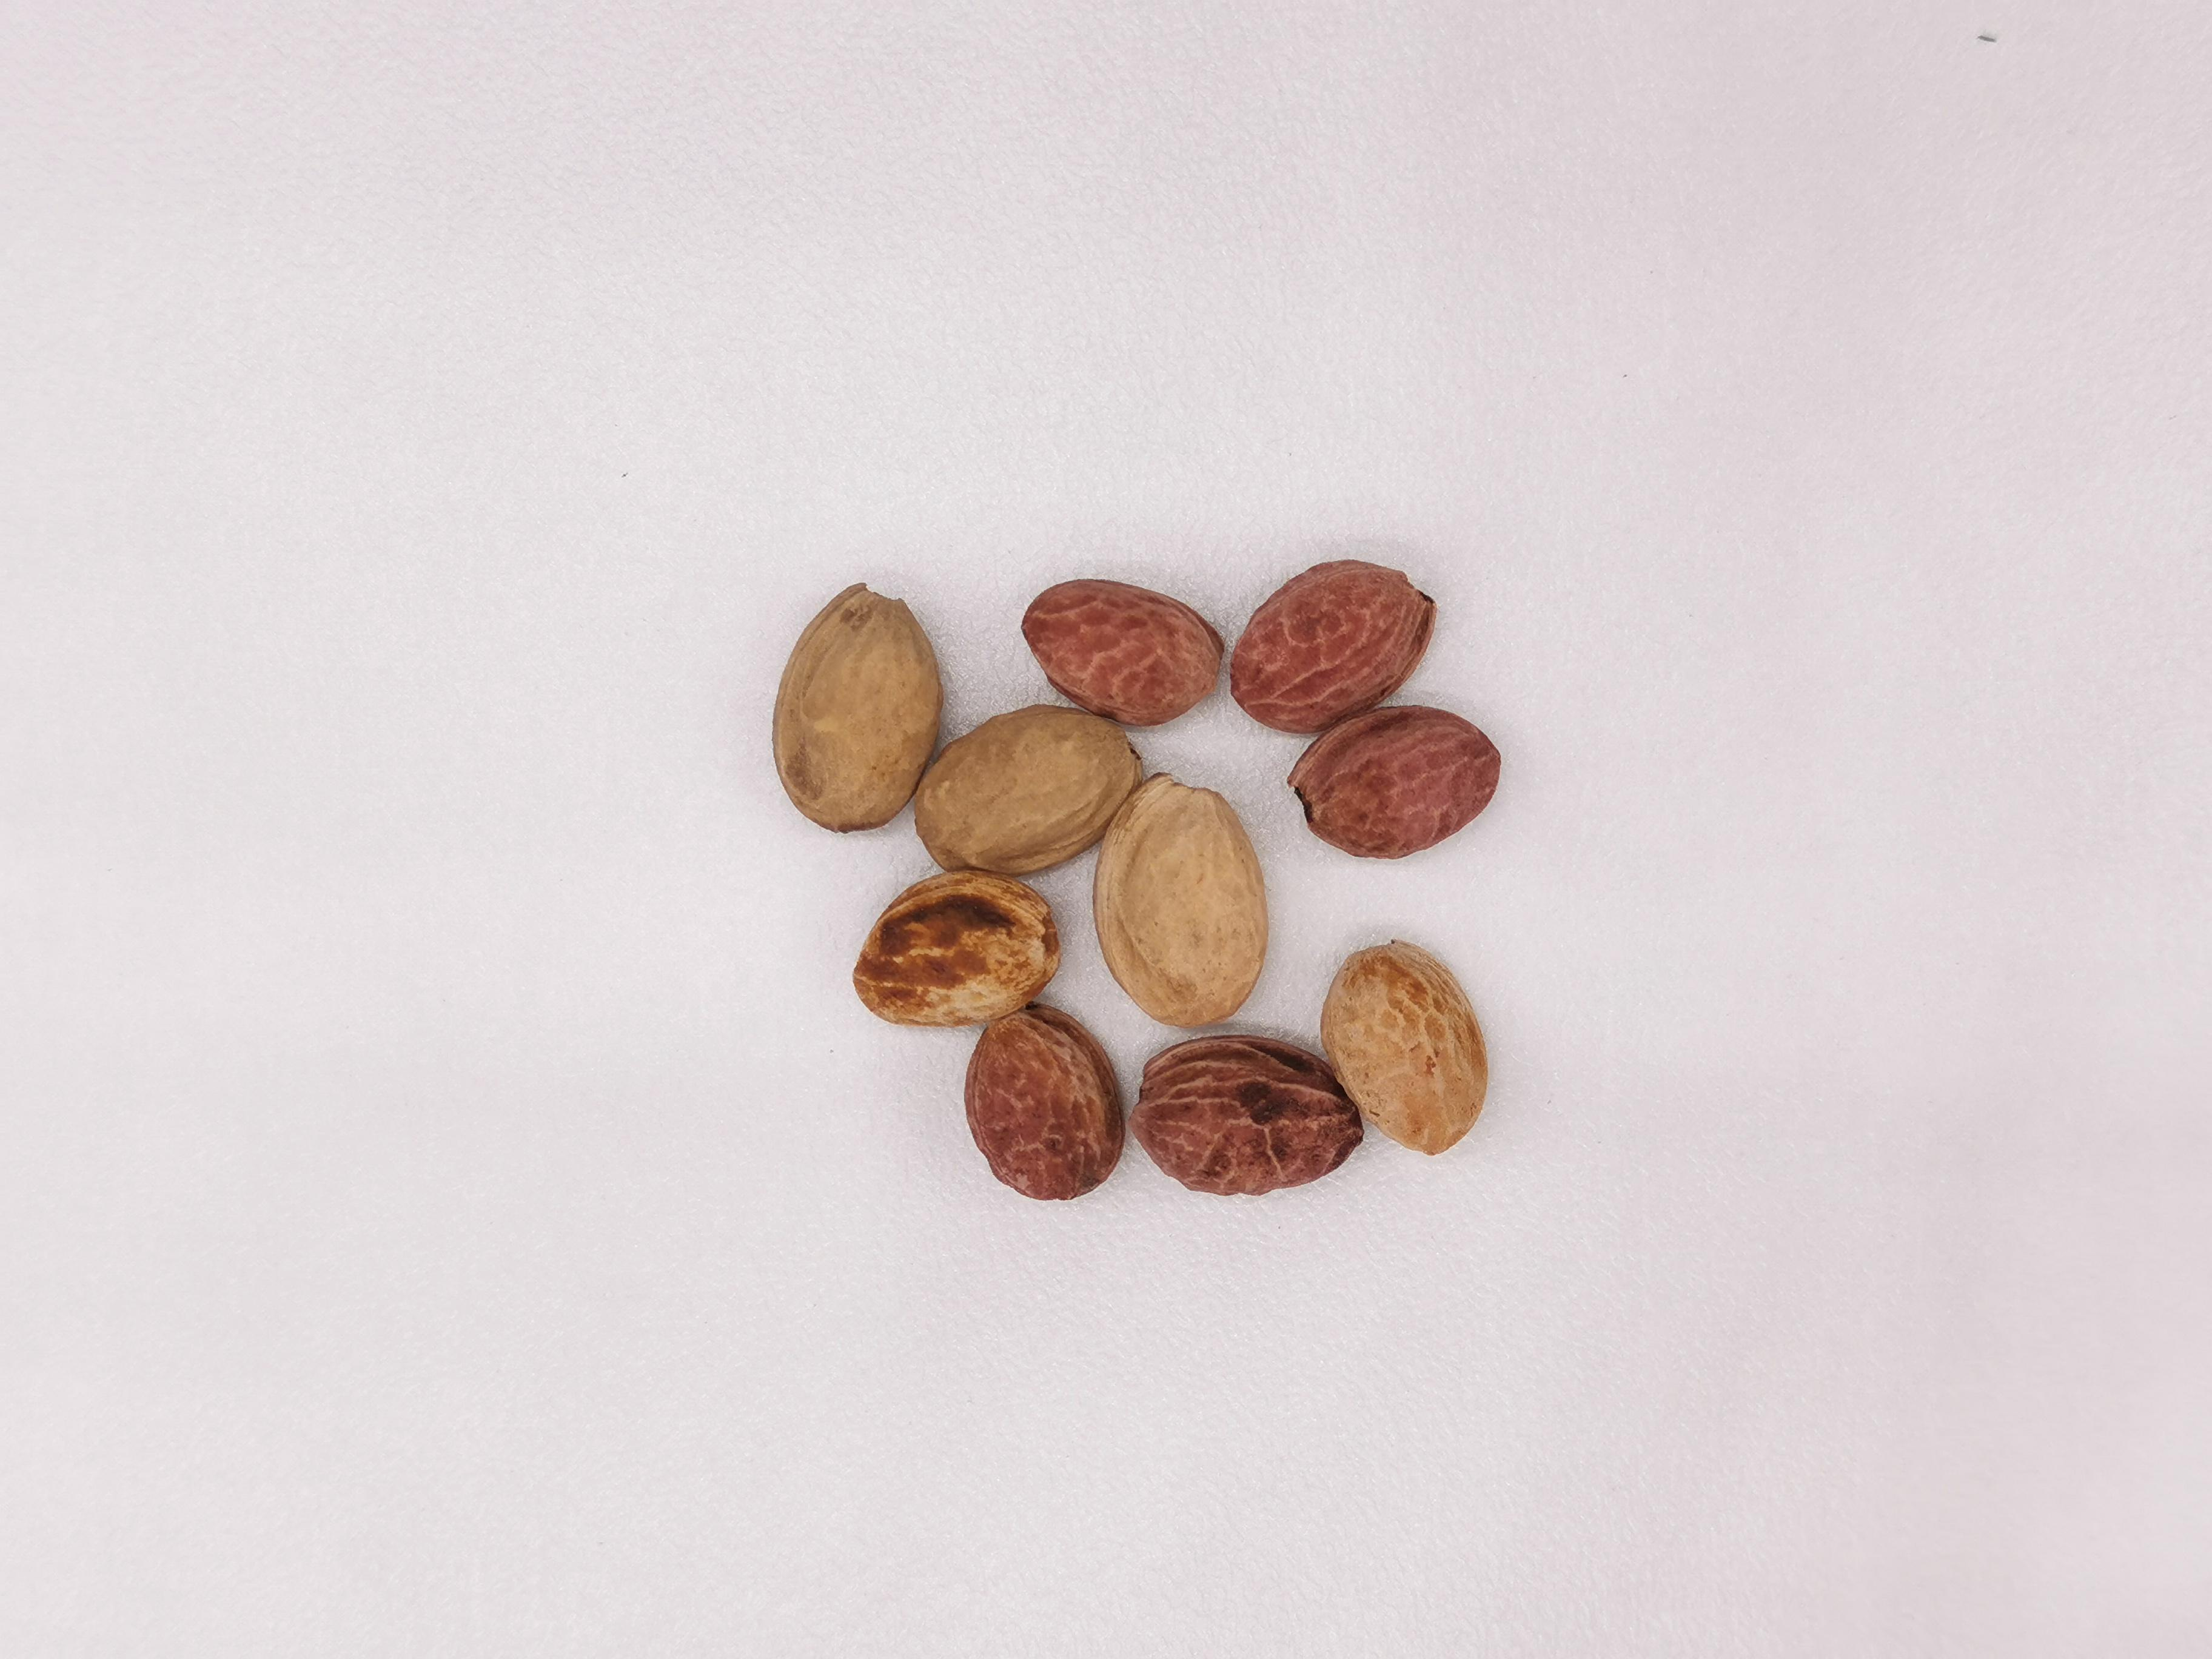seed: (1090, 774, 1273, 1032), (765, 582, 946, 840), (1318, 927, 1494, 1159), (916, 697, 1139, 877), (1224, 554, 1442, 737), (1123, 1032, 1362, 1197), (1284, 704, 1505, 863), (845, 870, 1061, 1030), (958, 1002, 1123, 1201), (1022, 572, 1230, 727)
